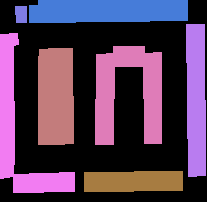parkingspot: (38, 0, 187, 22), (186, 24, 205, 176), (0, 33, 18, 178), (84, 171, 182, 191), (95, 53, 114, 144), (38, 48, 56, 144), (55, 48, 73, 144), (143, 52, 161, 143), (13, 172, 74, 192), (113, 46, 144, 66), (15, 6, 26, 22), (29, 5, 39, 22)
